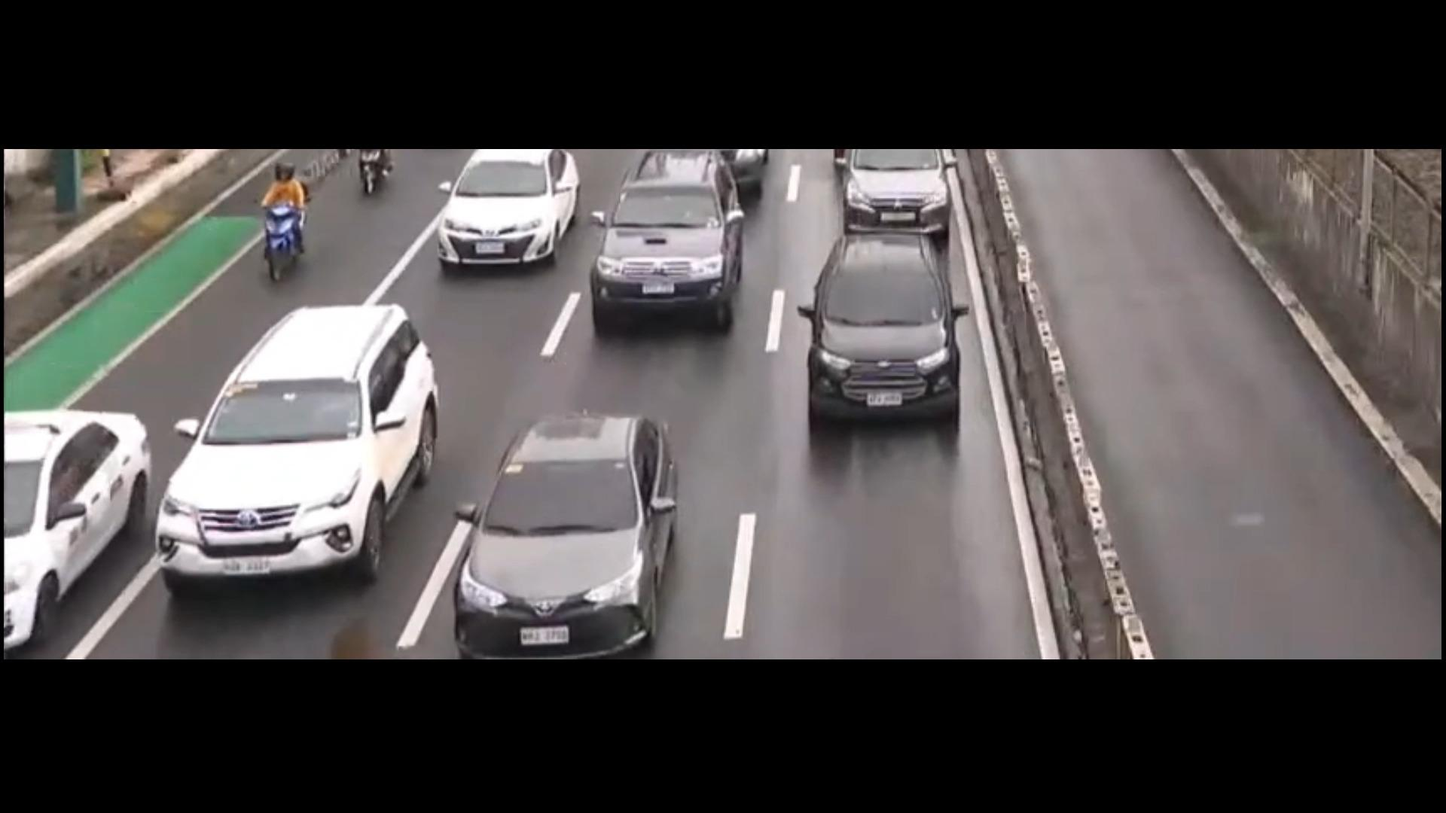Motorcycle: (254, 156, 324, 279)
SUV: (151, 305, 441, 585), (791, 237, 955, 427), (582, 164, 734, 335)
Sedan: (456, 416, 676, 649), (0, 406, 151, 640), (437, 149, 578, 269), (836, 149, 953, 239)
